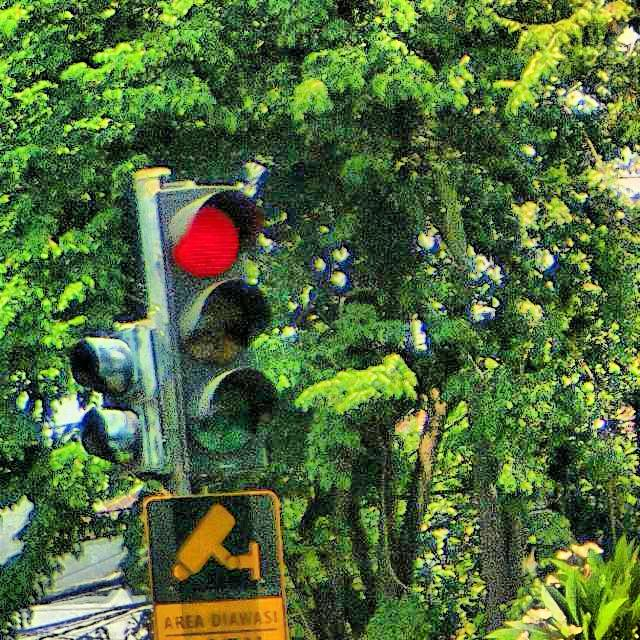red: (149, 189, 282, 470)
